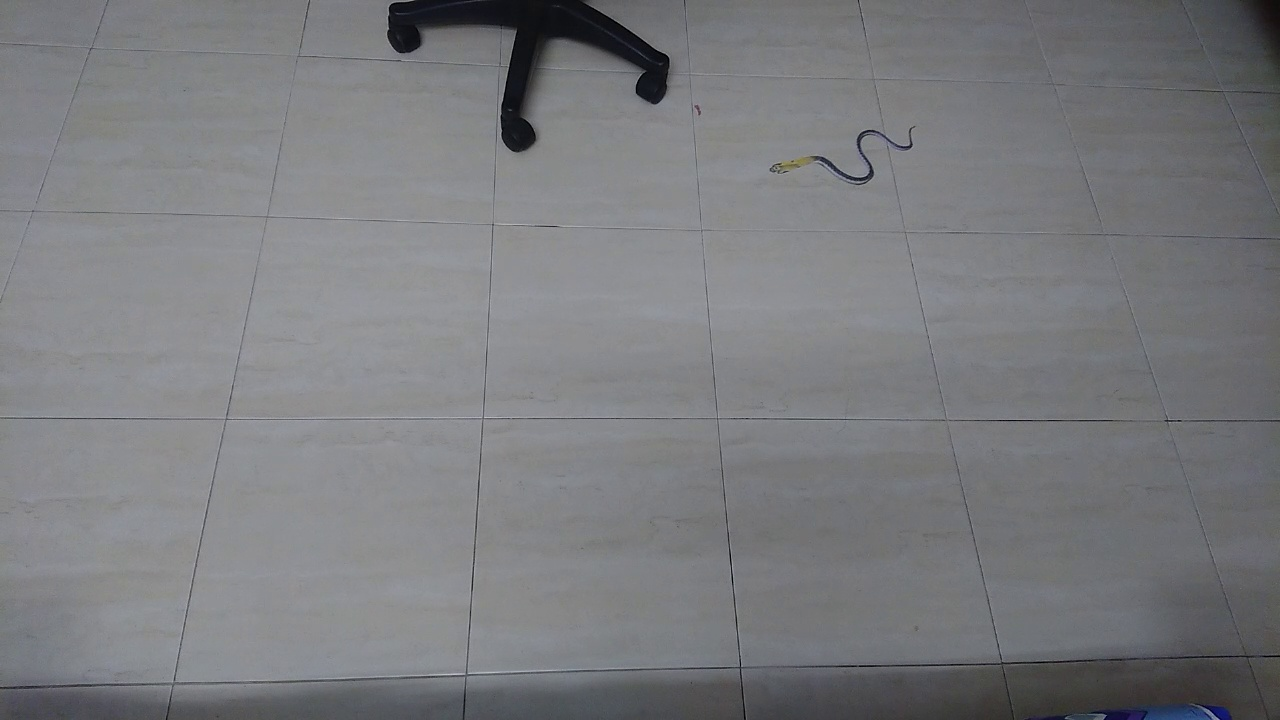snake: (748, 114, 934, 196)
